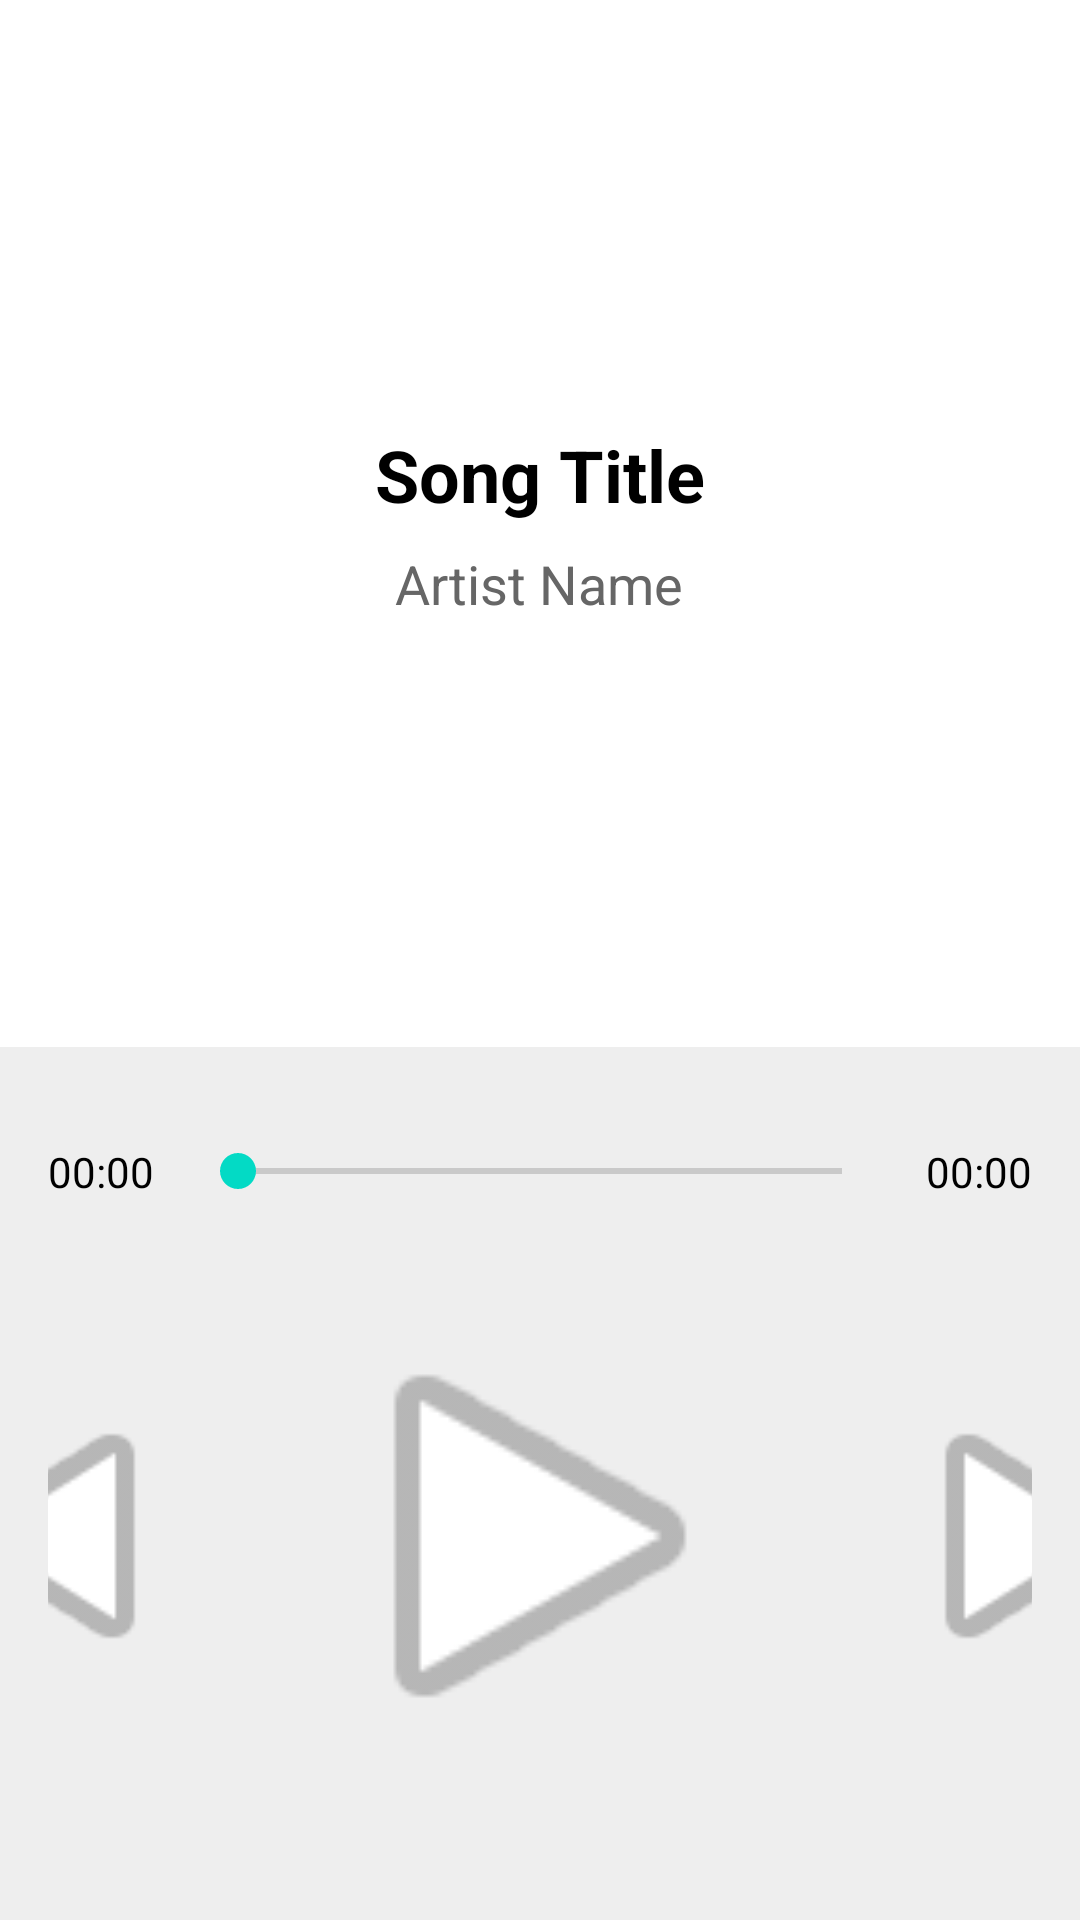

Point at icon controls on the screen. Image size 1080w x 1920h, points as point (x, y).
play: point (540, 1536)
